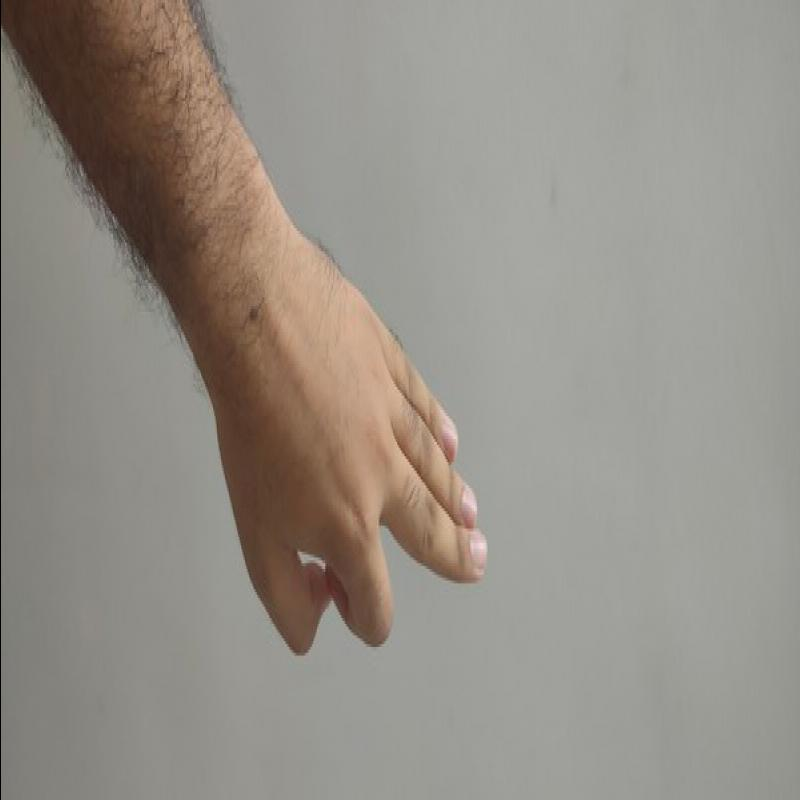Mudraakhyam: (200, 270, 501, 670)
